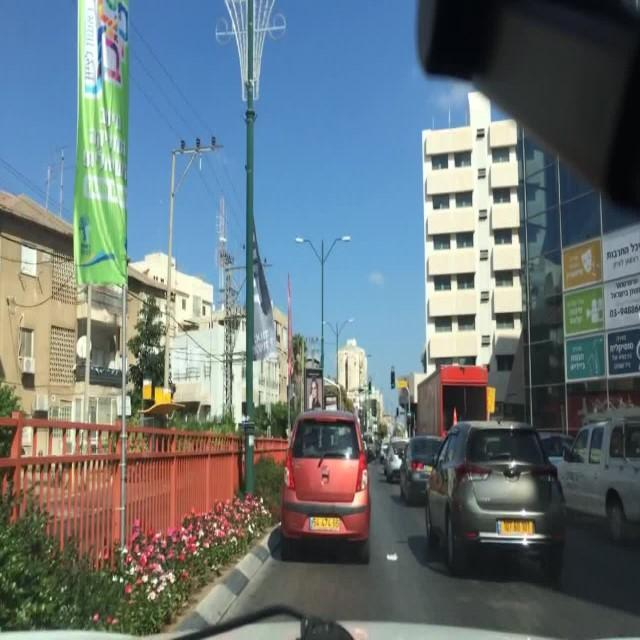normal: (427, 417, 572, 578), (283, 409, 375, 562), (549, 412, 638, 544), (400, 436, 445, 506)
